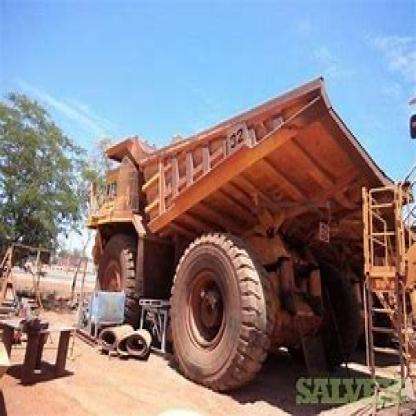bull_dozer/loader/grader: (86, 70, 402, 388)
